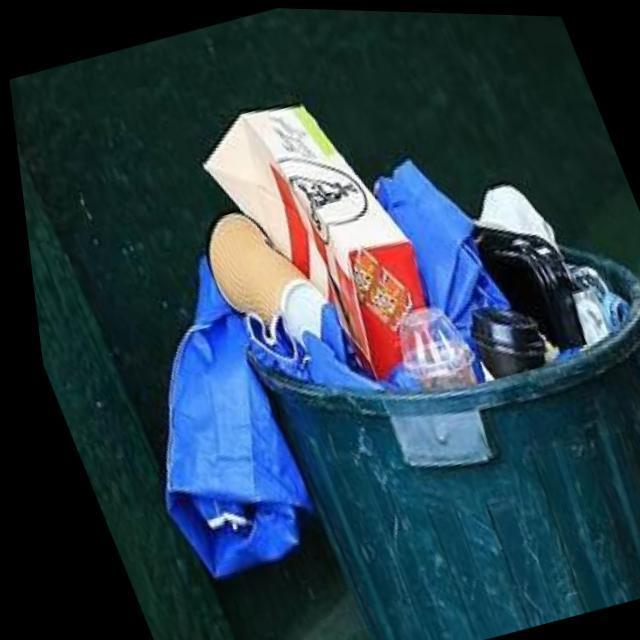Garbage: (153, 104, 620, 573)
Plastic: (370, 154, 502, 349)
Plastic_bottle: (391, 306, 466, 388), (464, 305, 536, 375)
Tetrapack: (202, 104, 418, 375)
